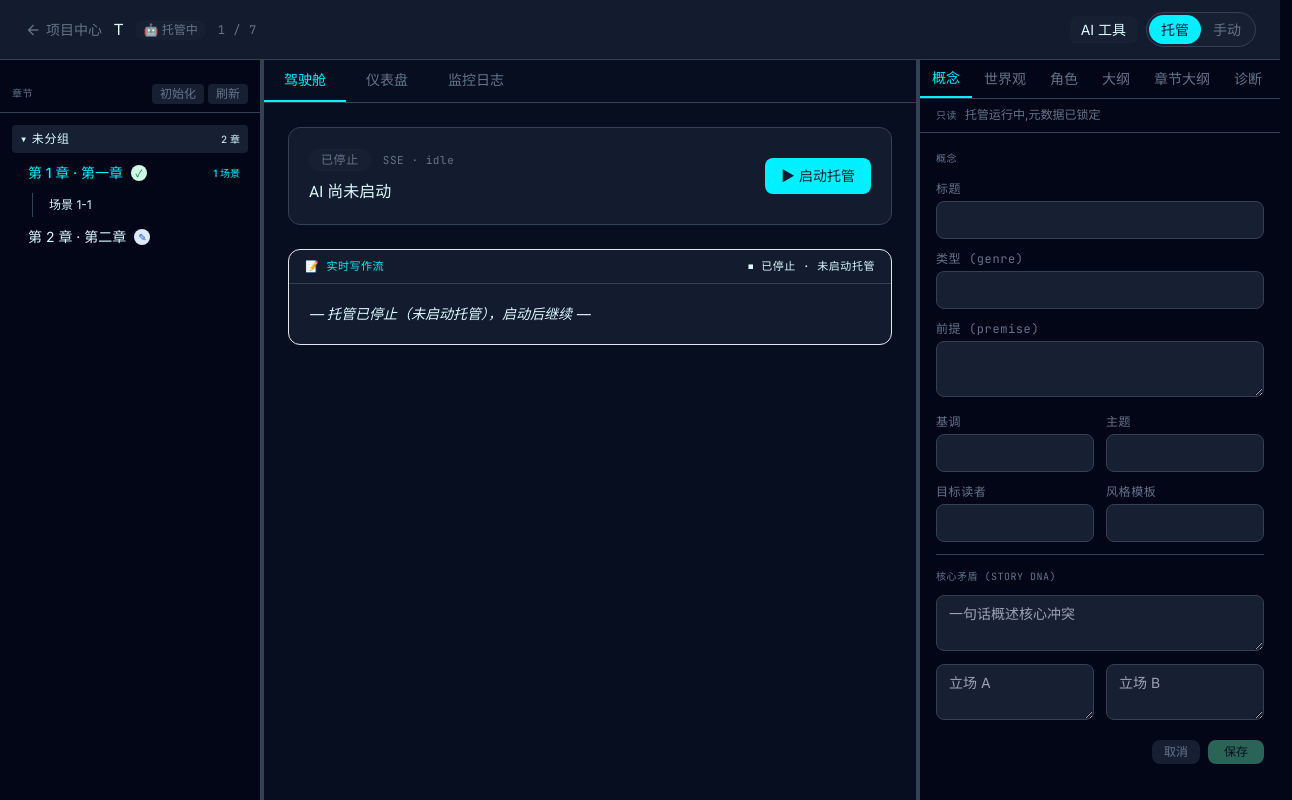
it: Workspace integration › refresh that fails leaves an empty chapter list (no stale data)
The image size is (1292, 800).
Expected: the button with test id "chapter-1" is shown, [20,157,248,189]
Expected: the button with test id "chapter-2" is shown, [20,221,248,253]
Note: Click the workspace "刷新" button.
Click the button with test id "refresh" at [228, 94], box [208,84,248,104]
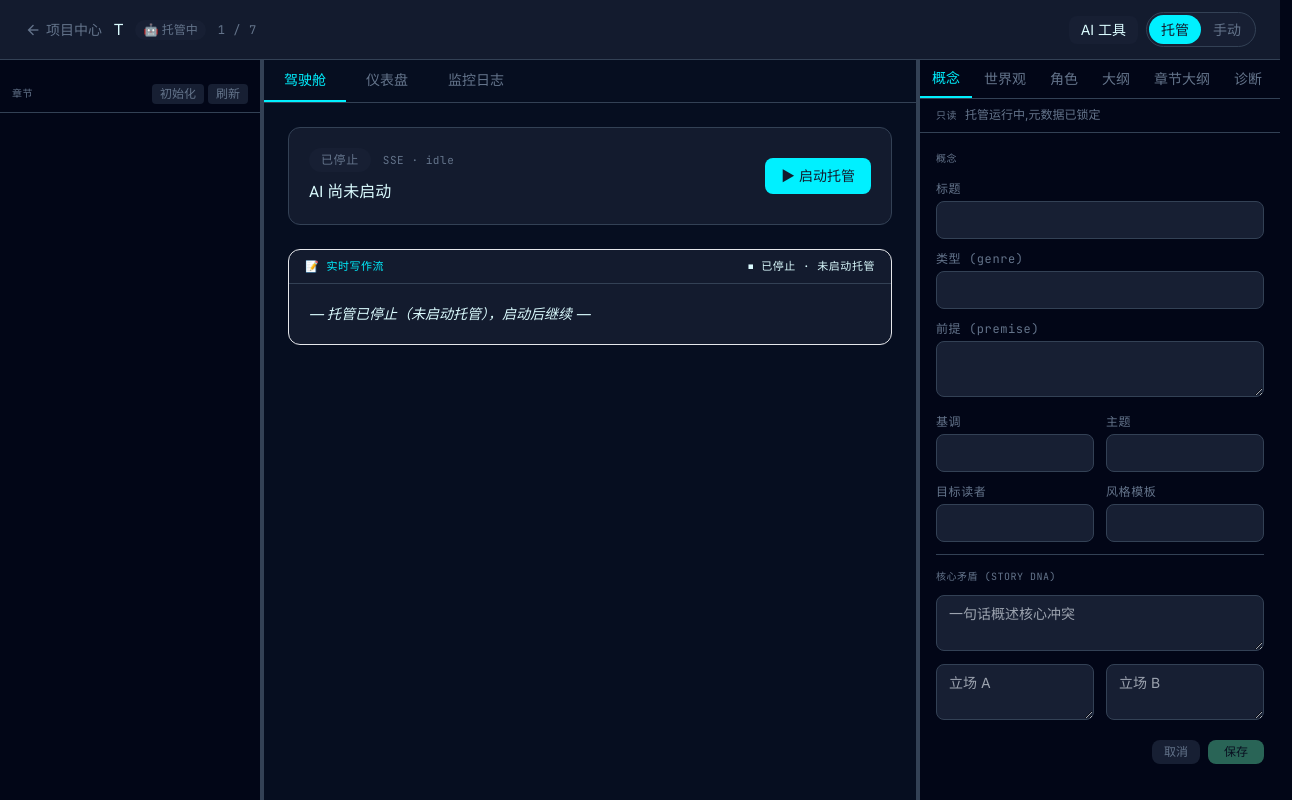
Now the button with test id "chapter-1" is gone
Now the button with test id "chapter-2" is gone
